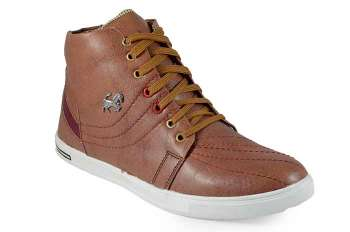Footwear: (51, 6, 319, 224)
